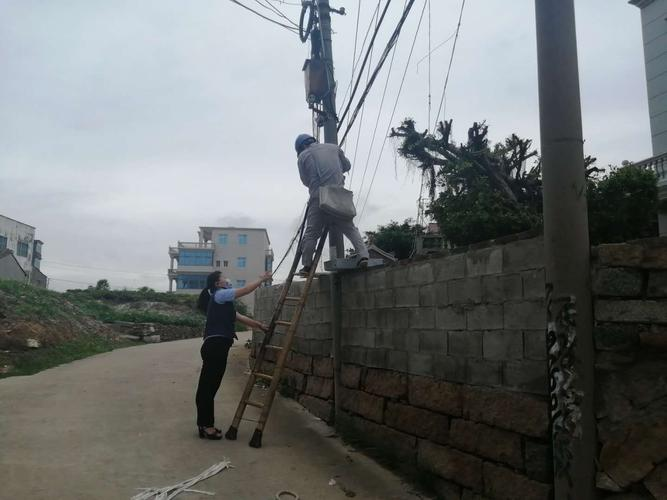安全帽、工作服均未穿戴的工作人员: (194, 267, 275, 443)
未系安全绳的工作人员: (291, 133, 369, 278)
